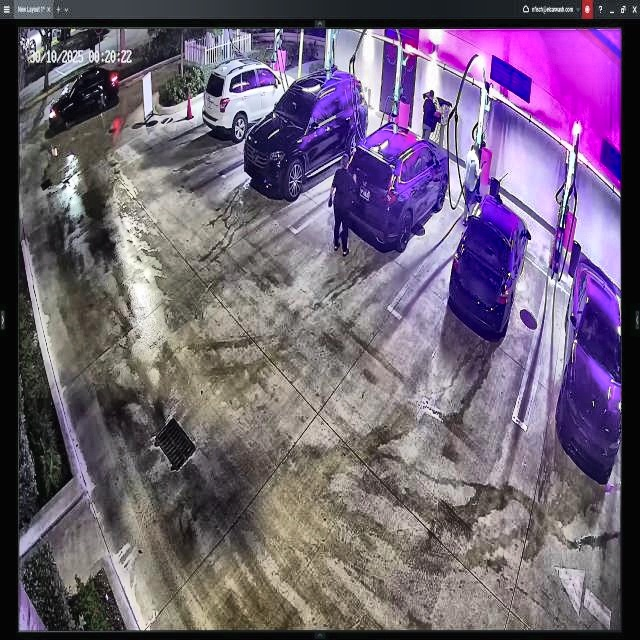Car: (244, 70, 370, 198), (335, 122, 449, 250), (449, 193, 529, 332)
